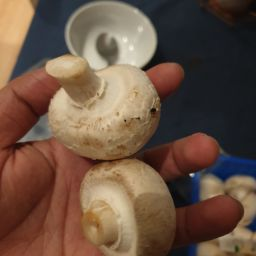Mushrooms: (28, 46, 173, 164), (54, 157, 184, 256)
